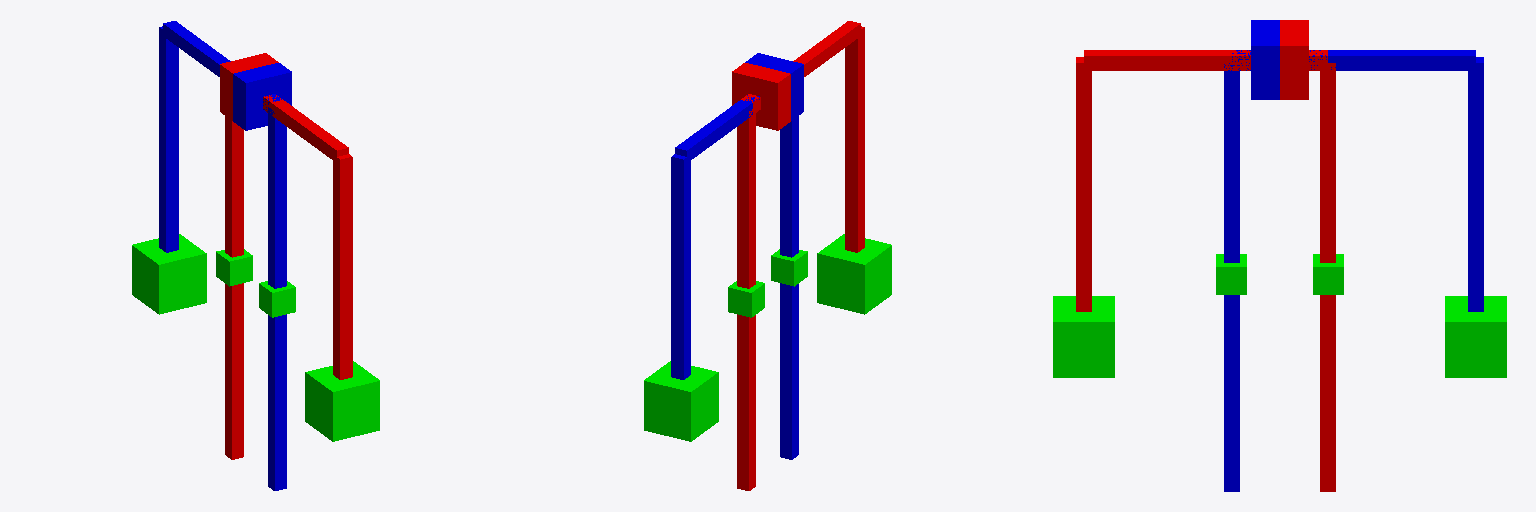
URDF robot description (stick_bot):
<?xml version='1.0' encoding='utf-8'?>
<robot name="stick_bot">
  <link name="left_leg">
    <visual name="left_leg_motor">
      <origin xyz="0 0.00485 0" rpy="0 0 0" />
      <geometry>
        <box size="0.0198 0.0097 0.0196" />
      </geometry>
      <material>
        <color rgba="1 0 0 0.5" />
      </material>
    </visual>
    <visual name="left_leg_axel">
      <origin xyz="0 0.00795 0" rpy="0 0 0" />
      <geometry>
        <box size="0.0052 0.0159 0.0052" />
      </geometry>
      <material>
        <color rgba="1 0 0 0.5" />
      </material>
    </visual>
    <visual name="left_leg_arm_axel">
      <origin xyz="0 -0.0323 0" rpy="0 0 0" />
      <geometry>
        <box size="0.0052 0.0646 0.0052" />
      </geometry>
      <material>
        <color rgba="1 0 0 0.5" />
      </material>
    </visual>
    <visual name="left_leg_arm">
      <origin xyz="0 -0.0646 -0.05035" rpy="0 0 0" />
      <geometry>
        <box size="0.0052 0.0052 0.1007" />
      </geometry>
      <material>
        <color rgba="1 0 0 0.5" />
      </material>
    </visual>
    <visual name="left_leg_hand_mass">
      <origin xyz="0 -0.0646 -0.1007" rpy="0 0 0" />
      <geometry>
        <box size="0.0204 0.0204 0.0204" />
      </geometry>
      <material>
        <color rgba="0 1 0 0.5" />
      </material>
    </visual>
    <visual name="left_leg_link">
      <origin xyz="0 0.0159 -0.07785" rpy="0 0 0" />
      <geometry>
        <box size="0.0052 0.0052 0.1557" />
      </geometry>
      <material>
        <color rgba="1 0 0 0.5" />
      </material>
    </visual>
    <visual name="left_leg_mass">
      <origin xyz="0 0.0159 -0.07785" rpy="0 0 0" />
      <geometry>
        <box size="0.0102 0.0102 0.0102" />
      </geometry>
      <material>
        <color rgba="0 1 0 0.5" />
      </material>
    </visual>
    <visual name="left_leg_foot_visual">
      <origin xyz="0.0142 0.0159 -0.1557" rpy="0 0 0" />
      <geometry>
        <mesh filename="/home/sman/Work/CMU/Research/LEGO-mujoco/stickbot/X_0.2414_Y_0.238_Z_0.2511_box_x_0.1042_box_y_0.053/left_foot_geom.obj" />
      </geometry>
      <material>
        <color rgba="1 0 0 0.5" />
      </material>
    </visual>
    <collision name="left_leg_foot_collision">
      <origin xyz="0.0142 0.0159 -0.1557" rpy="0 0 0" />
      <geometry>
        <mesh filename="/home/sman/Work/CMU/Research/LEGO-mujoco/stickbot/X_0.2414_Y_0.238_Z_0.2511_box_x_0.1042_box_y_0.053/left_foot_geom.obj" />
      </geometry>
      <material>
        <color rgba="1 0 0 0.5" />
      </material>
    </collision>
  </link>
  <link name="right_leg">
    <visual name="right_leg_motor">
      <origin xyz="0 -0.00485 0" rpy="0 0 0" />
      <geometry>
        <box size="0.0198 0.0097 0.0196" />
      </geometry>
      <material>
        <color rgba="0 0 1 0.5" />
      </material>
    </visual>
    <visual name="right_leg_axel">
      <origin xyz="0 -0.00795 0" rpy="0 0 0" />
      <geometry>
        <box size="0.0052 0.0159 0.0052" />
      </geometry>
      <material>
        <color rgba="0 0 1 0.5" />
      </material>
    </visual>
    <visual name="right_leg_arm_axel">
      <origin xyz="0 0.0323 0" rpy="0 0 0" />
      <geometry>
        <box size="0.0052 0.0646 0.0052" />
      </geometry>
      <material>
        <color rgba="0 0 1 0.5" />
      </material>
    </visual>
    <visual name="right_leg_arm">
      <origin xyz="0 0.0646 -0.05035" rpy="0 0 0" />
      <geometry>
        <box size="0.0052 0.0052 0.1007" />
      </geometry>
      <material>
        <color rgba="0 0 1 0.5" />
      </material>
    </visual>
    <visual name="right_leg_hand_mass">
      <origin xyz="0 0.0646 -0.1007" rpy="0 0 0" />
      <geometry>
        <box size="0.0204 0.0204 0.0204" />
      </geometry>
      <material>
        <color rgba="0 1 0 0.5" />
      </material>
    </visual>
    <visual name="right_leg_link">
      <origin xyz="0 -0.0159 -0.07785" rpy="0 0 0" />
      <geometry>
        <box size="0.0052 0.0052 0.1557" />
      </geometry>
      <material>
        <color rgba="0 0 1 0.5" />
      </material>
    </visual>
    <visual name="right_leg_mass">
      <origin xyz="0 -0.0159 -0.07785" rpy="0 0 0" />
      <geometry>
        <box size="0.0102 0.0102 0.0102" />
      </geometry>
      <material>
        <color rgba="0 1 0 0.5" />
      </material>
    </visual>
    <visual name="right_leg_foot_visual">
      <origin xyz="0.0142 -0.0159 -0.1557" rpy="0 0 0" />
      <geometry>
        <mesh filename="/home/sman/Work/CMU/Research/LEGO-mujoco/stickbot/X_0.2414_Y_0.238_Z_0.2511_box_x_0.1042_box_y_0.053/right_foot_geom.obj" />
      </geometry>
      <material>
        <color rgba="0 0 1 0.5" />
      </material>
    </visual>
    <collision name="right_leg_foot_collision">
      <origin xyz="0.0142 -0.0159 -0.1557" rpy="0 0 0" />
      <geometry>
        <mesh filename="/home/sman/Work/CMU/Research/LEGO-mujoco/stickbot/X_0.2414_Y_0.238_Z_0.2511_box_x_0.1042_box_y_0.053/right_foot_geom.obj" />
      </geometry>
      <material>
        <color rgba="0 0 1 0.5" />
      </material>
    </collision>
  </link>
  <link name="left_leg_hand_mass_mass_link">
    <inertial name="left_leg_hand_mass_inertial">
      <origin xyz="0 -0.0646 -0.1007" rpy="0 0 0" />
      <mass value="0.1048" />
      <inertia ixx="0" ixy="0" ixz="0" iyy="0" iyz="0" izz="0" />
    </inertial>
  </link>
  <link name="left_leg_mass_mass_link">
    <inertial name="left_leg_mass_inertial">
      <origin xyz="0 0.0159 -0.07785" rpy="0 0 0" />
      <mass value="0.0975" />
      <inertia ixx="0" ixy="0" ixz="0" iyy="0" iyz="0" izz="0" />
    </inertial>
  </link>
  <link name="left_feet_mass_link">
    <inertial name="left_feet_inertial">
      <origin xyz="0.0142 0.0159 -0.1557" rpy="0 0 0" />
      <mass value="0.1031" />
      <inertia ixx="0" ixy="0" ixz="0" iyy="0" iyz="0" izz="0" />
    </inertial>
  </link>
  <link name="right_leg_hand_mass_mass_link">
    <inertial name="right_leg_hand_mass_inertial">
      <origin xyz="0 0.0646 -0.1007" rpy="0 0 0" />
      <mass value="0.1048" />
      <inertia ixx="0" ixy="0" ixz="0" iyy="0" iyz="0" izz="0" />
    </inertial>
  </link>
  <link name="right_leg_mass_mass_link">
    <inertial name="right_leg_mass_inertial">
      <origin xyz="0 -0.0159 -0.07785" rpy="0 0 0" />
      <mass value="0.0975" />
      <inertia ixx="0" ixy="0" ixz="0" iyy="0" iyz="0" izz="0" />
    </inertial>
  </link>
  <link name="right_feet_mass_link">
    <inertial name="right_feet_inertial">
      <origin xyz="0.0142 -0.0159 -0.1557" rpy="0 0 0" />
      <mass value="0.1031" />
      <inertia ixx="0" ixy="0" ixz="0" iyy="0" iyz="0" izz="0" />
    </inertial>
  </link>
  <joint name="hip" type="revolute">
    <origin xyz="0 0 0" rpy="0 0 0" />
    <parent link="left_leg" />
    <child link="right_leg" />
    <axis xyz="0 1 0" />
    <limit lower="-0.785" upper="0.785" />
  </joint>
  <joint name="fixed_left_leg_hand_mass_mass_link" type="fixed">
    <origin xyz="0 0 0" rpy="0 0 0" />
    <parent link="left_leg" />
    <child link="left_leg_hand_mass_mass_link" />
  </joint>
  <joint name="fixed_left_leg_mass_mass_link" type="fixed">
    <origin xyz="0 0 0" rpy="0 0 0" />
    <parent link="left_leg" />
    <child link="left_leg_mass_mass_link" />
  </joint>
  <joint name="fixed_left_feet_mass_link" type="fixed">
    <origin xyz="0 0 0" rpy="0 0 0" />
    <parent link="left_leg" />
    <child link="left_feet_mass_link" />
  </joint>
  <joint name="fixed_right_leg_hand_mass_mass_link" type="fixed">
    <origin xyz="0 0 0" rpy="0 0 0" />
    <parent link="right_leg" />
    <child link="right_leg_hand_mass_mass_link" />
  </joint>
  <joint name="fixed_right_leg_mass_mass_link" type="fixed">
    <origin xyz="0 0 0" rpy="0 0 0" />
    <parent link="right_leg" />
    <child link="right_leg_mass_mass_link" />
  </joint>
  <joint name="fixed_right_feet_mass_link" type="fixed">
    <origin xyz="0 0 0" rpy="0 0 0" />
    <parent link="right_leg" />
    <child link="right_feet_mass_link" />
  </joint>
  <mujoco>
    <compiler strippath="false" />
  </mujoco>
</robot>

--- Render facts (derived) ---
The picture shows the robot from 3 angles, left to right: view 1: azimuth 30°, elevation 25°; view 2: azimuth 150°, elevation 25°; view 3: azimuth 270°, elevation 25°; orthographic projection.
Robot: stick_bot — 8 links, 7 joints (1 revolute, 6 fixed); root link left_leg; default pose: all joints at 0.
Visible links, largest first — view 1: right_leg, left_leg; view 2: left_leg, right_leg; view 3: left_leg, right_leg.
Boxes of the visible links, bbox=[...] form: right_leg: bbox=[132, 21, 295, 490]; left_leg: bbox=[216, 53, 379, 459]; left_leg: bbox=[728, 21, 891, 490]; right_leg: bbox=[644, 53, 807, 459]; left_leg: bbox=[1053, 20, 1343, 491]; right_leg: bbox=[1216, 20, 1506, 491].
Size in the robot's own frame: 0.0204 by 0.1496 by 0.1655 metres.
Geometry: only primitive shapes (box / cylinder / sphere) drawn; not drawn: 2 mesh visuals (reference in a form the renderer does not follow).
